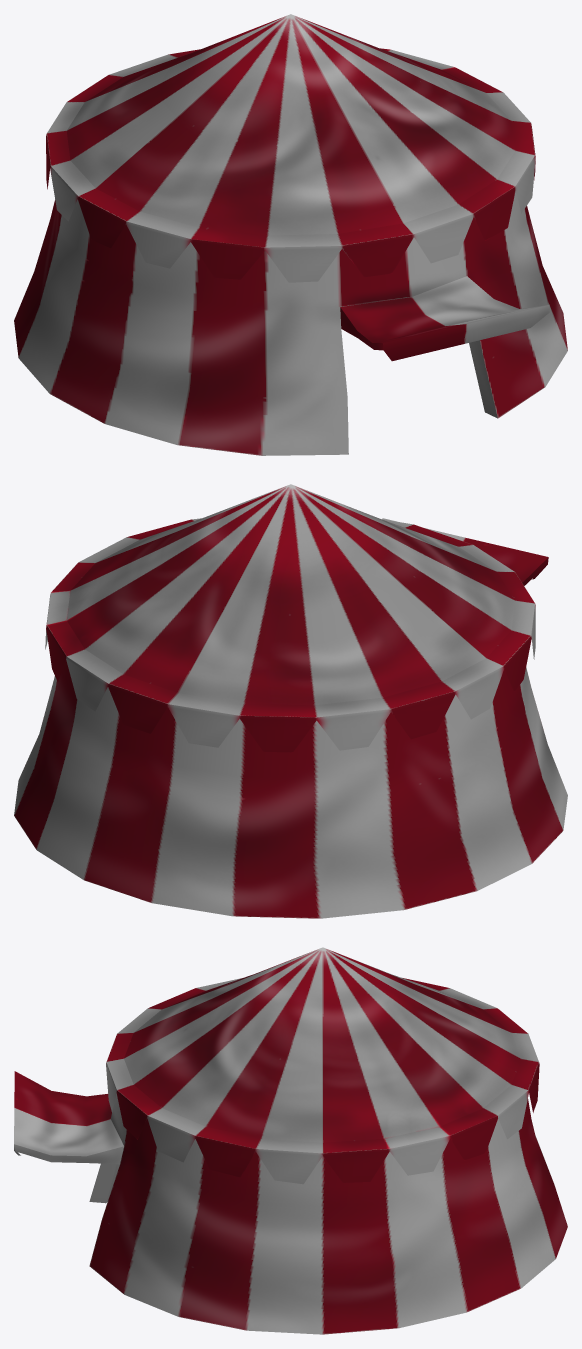
The model's file is circus2.fbx.
3 views of the same model, one above another, from view 1: azimuth 30°, elevation 25°; view 2: azimuth 150°, elevation 25°; view 3: azimuth 270°, elevation 25° (orthographic). The views are drawn at different scales.
Visible parts, largest first — view 1: pCylinder1; view 2: pCylinder1; view 3: pCylinder1.
Part boxes in pixels (left/top/right/bottom): pCylinder1: left=14, top=14, right=567, bottom=455; pCylinder1: left=14, top=484, right=567, bottom=918; pCylinder1: left=14, top=947, right=567, bottom=1334.
Size of the model in its own units: 23.65 by 15.26 by 26.7.
Materials: 1 (1 with a texture image).
